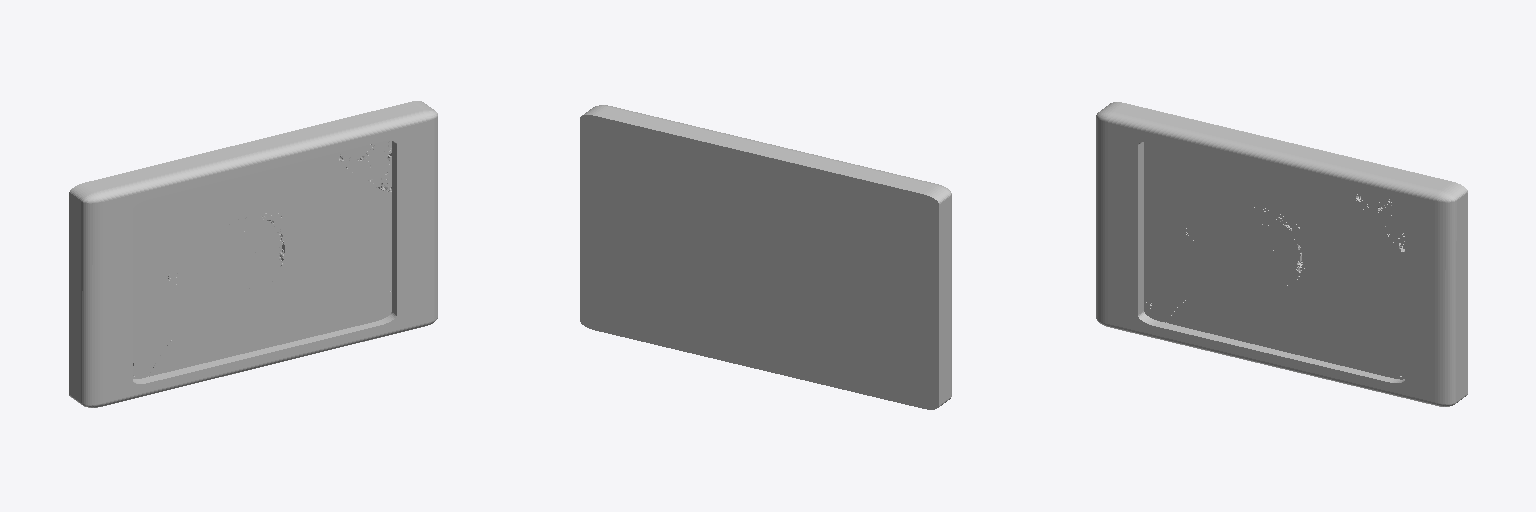
Rendered from painting frame.obj.
The picture shows the model from 3 angles: view 1: azimuth 30°, elevation 25°; view 2: azimuth 150°, elevation 25°; view 3: azimuth 330°, elevation 25°; orthographic projection.
Parts seen in each view (by area): view 1: Object.2, Object.1; view 2: Object.1; view 3: Object.2, Object.1.
Part boxes in pixels (left/top/right/bottom): Object.2: left=133, top=141, right=391, bottom=378; Object.1: left=69, top=101, right=437, bottom=407; Object.1: left=580, top=105, right=951, bottom=409; Object.2: left=1144, top=142, right=1404, bottom=379; Object.1: left=1096, top=102, right=1467, bottom=406.
Size of the model in its own units: 211 by 121 by 19.54.